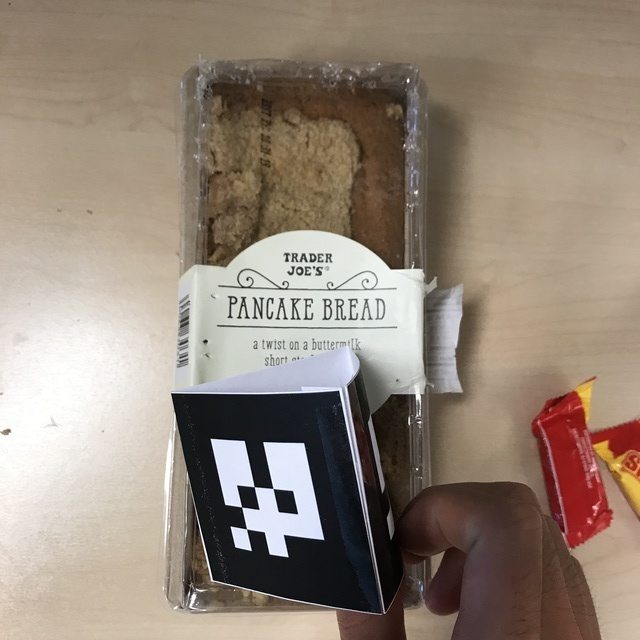ARTag: (171, 344, 407, 616)
